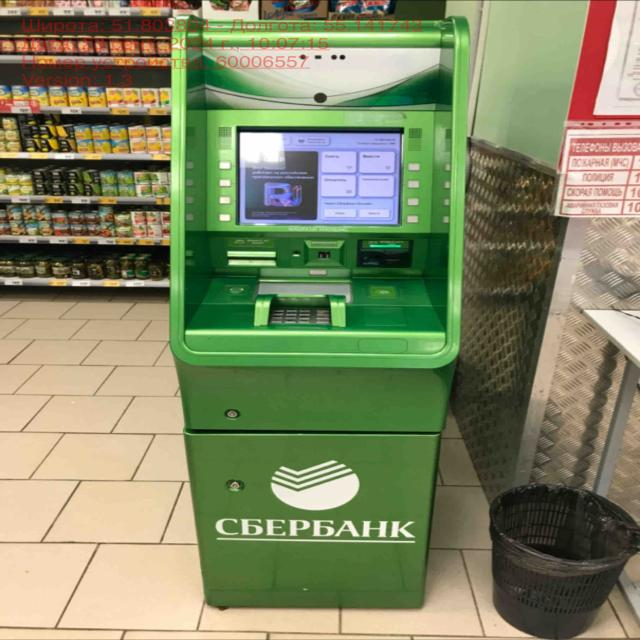bank: (173, 14, 471, 610)
